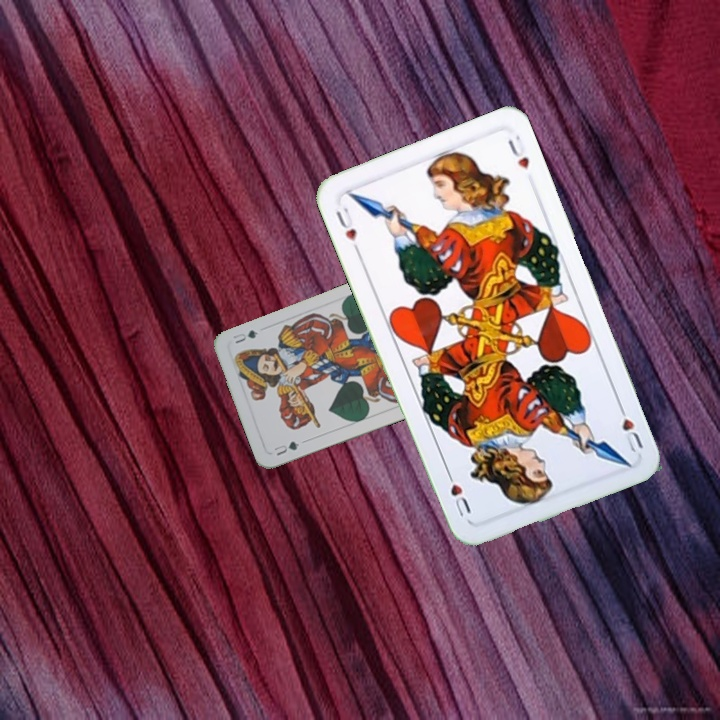GU: (270, 437, 302, 458)
HU: (614, 399, 646, 455), (332, 203, 362, 255)
